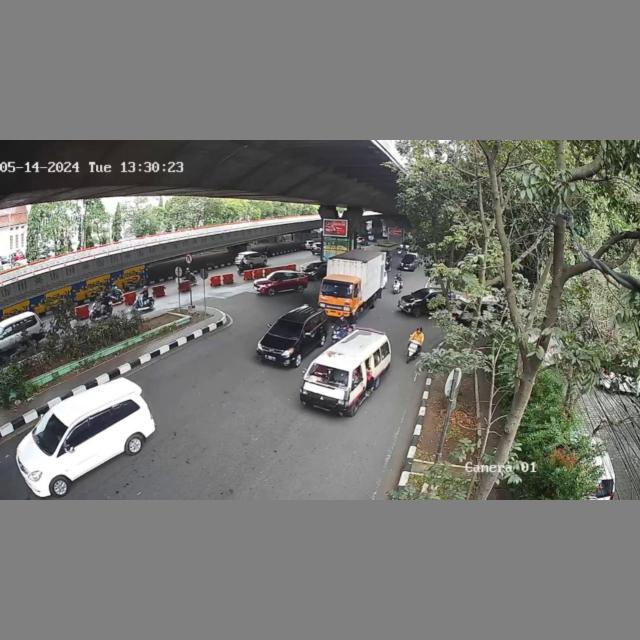windshield: (308, 362, 349, 390), (321, 277, 360, 299), (266, 318, 305, 339)
